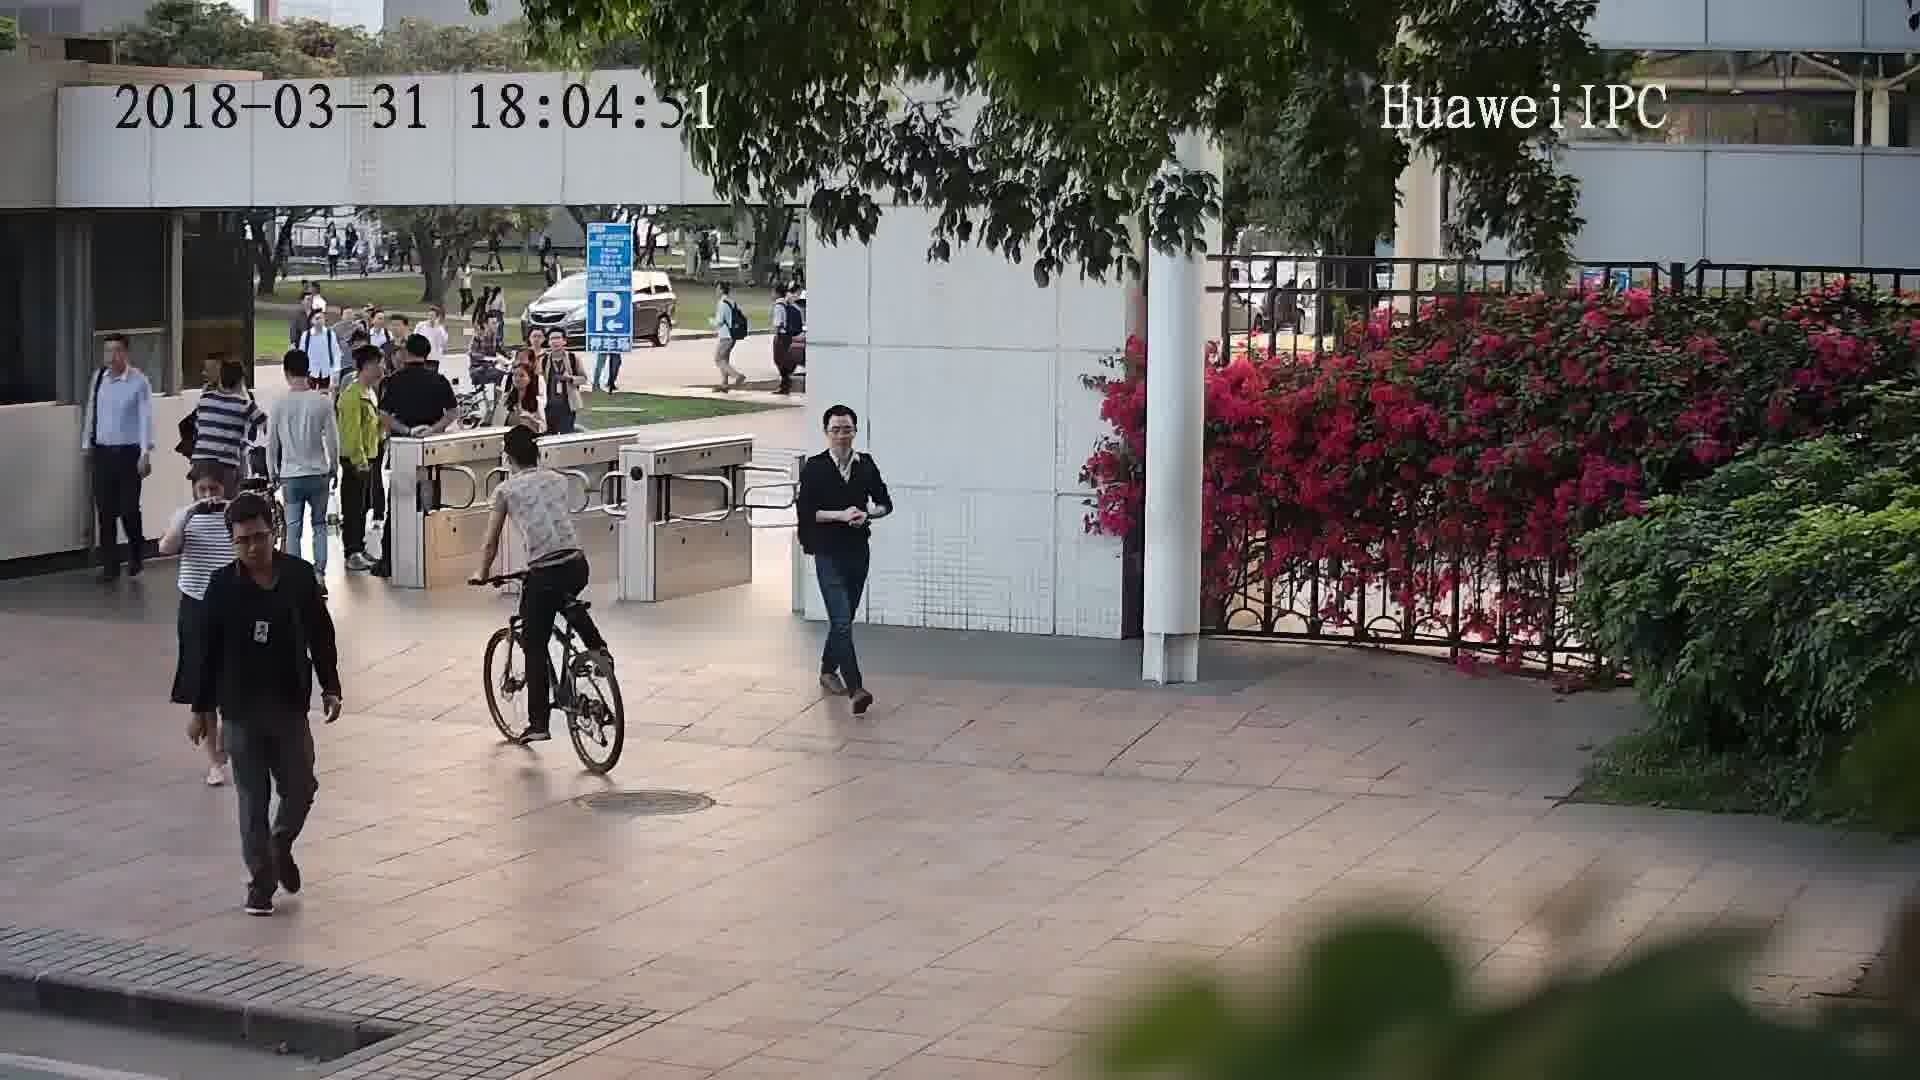face: (226, 517, 279, 570), (823, 410, 861, 451)
person: (201, 491, 325, 606), (493, 425, 577, 501), (801, 402, 880, 480), (178, 451, 251, 535), (194, 355, 258, 415), (275, 348, 331, 416), (90, 333, 151, 393), (392, 332, 452, 387), (337, 344, 389, 408), (537, 327, 580, 370), (517, 323, 557, 367), (468, 313, 507, 357), (295, 307, 340, 343), (709, 276, 744, 315), (418, 302, 452, 335), (356, 300, 389, 335), (328, 307, 365, 335), (288, 288, 320, 318), (772, 283, 799, 314), (543, 251, 562, 273)
